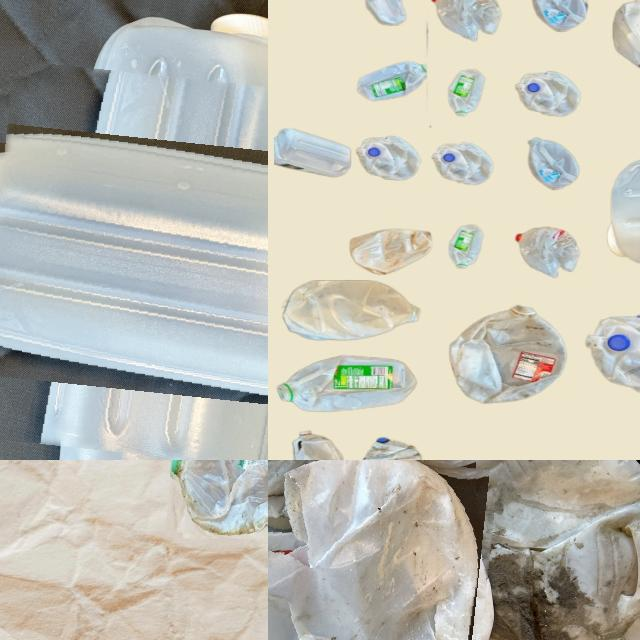milk-jug: (0, 69, 268, 460), (268, 460, 491, 640), (425, 460, 640, 640), (448, 301, 564, 405), (487, 566, 640, 640), (276, 279, 424, 342), (274, 353, 416, 415), (168, 460, 268, 541), (585, 302, 640, 390), (346, 220, 434, 272), (269, 126, 357, 176), (510, 222, 580, 278), (352, 54, 430, 102), (514, 68, 586, 116), (358, 128, 423, 180), (517, 136, 584, 186), (428, 141, 498, 185), (445, 59, 494, 120), (607, 0, 640, 87), (431, 0, 503, 37), (445, 218, 485, 270), (530, 0, 586, 37), (291, 427, 347, 460), (356, 0, 418, 25)
